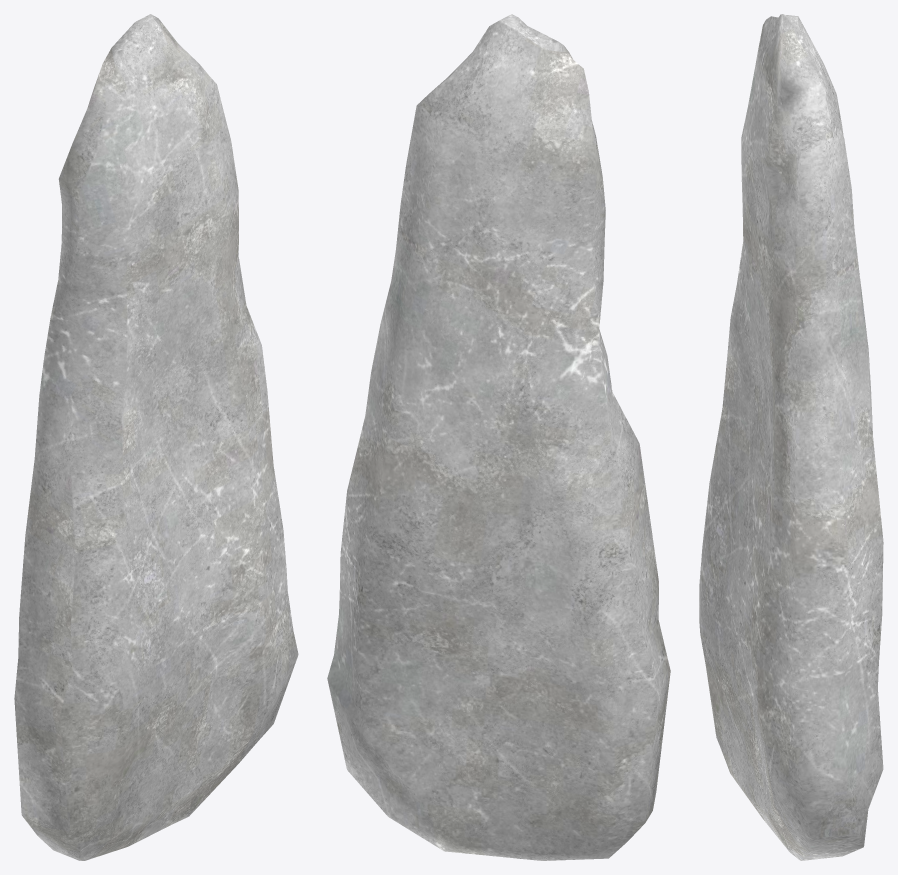
The model's file is Masso_04.FBX.
The picture shows the model from 3 angles, left to right: view 1: azimuth 30°, elevation 25°; view 2: azimuth 150°, elevation 25°; view 3: azimuth 270°, elevation 25°; orthographic projection.
Visible parts, largest first — view 1: Masso_020; view 2: Masso_020; view 3: Masso_020.
Part boxes in pixels (left/top/right/bottom): Masso_020: left=14, top=14, right=298, bottom=860; Masso_020: left=327, top=14, right=670, bottom=860; Masso_020: left=699, top=14, right=883, bottom=860.
Bounding box in the file's own units: 1.82 × 4.81 × 0.9708.
1 material, 1 textured.
